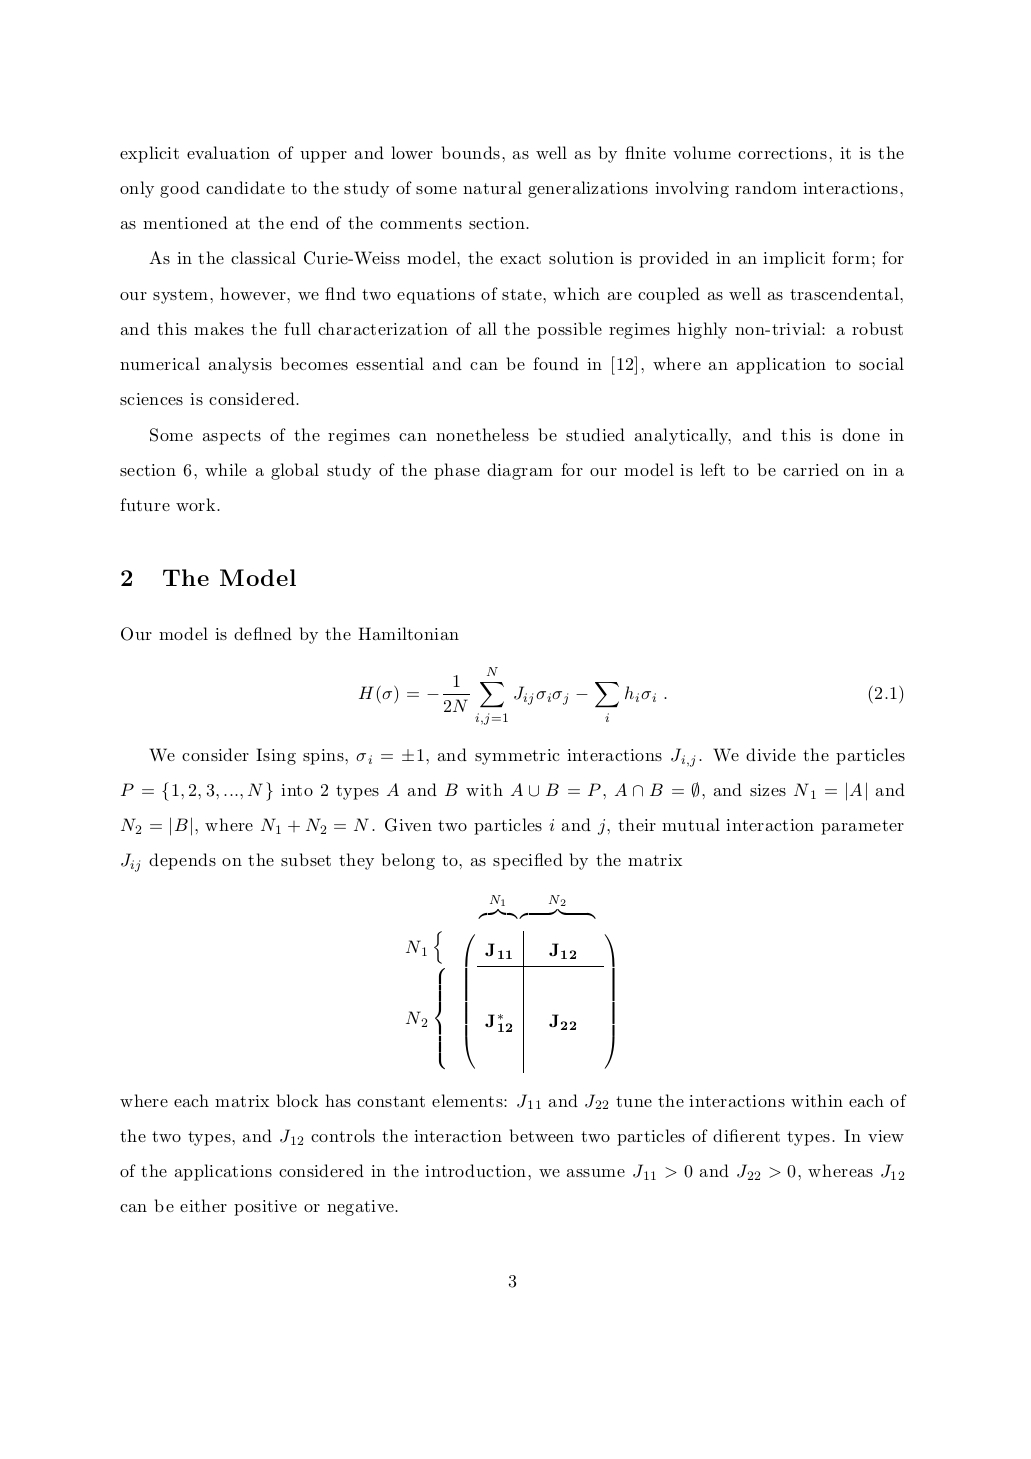formula: (405, 895, 614, 1072), (358, 666, 903, 725)
